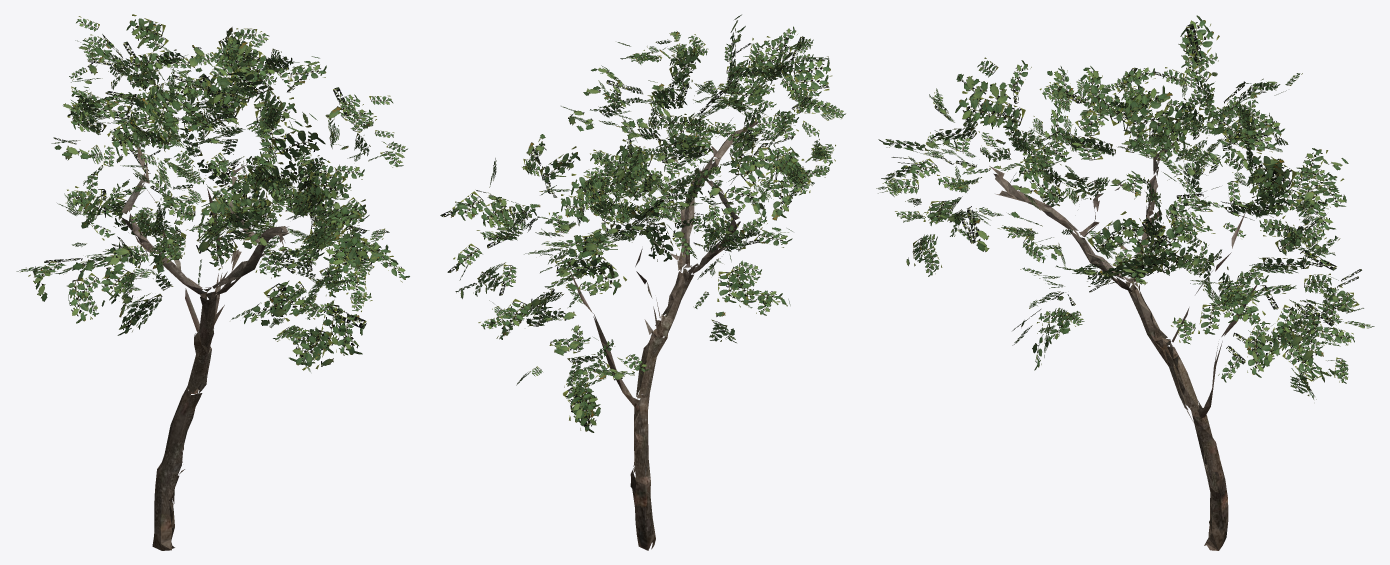
The model's file is arvore-lod-denso.glb.
3 views of the same model, side by side, from view 1: azimuth 30°, elevation 25°; view 2: azimuth 150°, elevation 25°; view 3: azimuth 270°, elevation 25° (orthographic). The views are drawn at different scales.
Parts seen in each view (by area): view 1: Arvore_Real_LowLOD_tree_small_02.001, Arvore_Real_LowLOD_tree_small_02; view 2: Arvore_Real_LowLOD_tree_small_02.001, Arvore_Real_LowLOD_tree_small_02; view 3: Arvore_Real_LowLOD_tree_small_02.001, Arvore_Real_LowLOD_tree_small_02.
Part boxes in pixels (box(x1,y1,x2,y2)): Arvore_Real_LowLOD_tree_small_02.001: box(16, 14, 409, 371); Arvore_Real_LowLOD_tree_small_02: box(121, 146, 289, 550); Arvore_Real_LowLOD_tree_small_02.001: box(440, 14, 845, 432); Arvore_Real_LowLOD_tree_small_02: box(569, 121, 758, 550); Arvore_Real_LowLOD_tree_small_02.001: box(876, 15, 1374, 399); Arvore_Real_LowLOD_tree_small_02: box(993, 140, 1257, 550).
Size of the model in its own units: 2.89 by 4.65 by 4.3.
3 materials, 3 textured.
